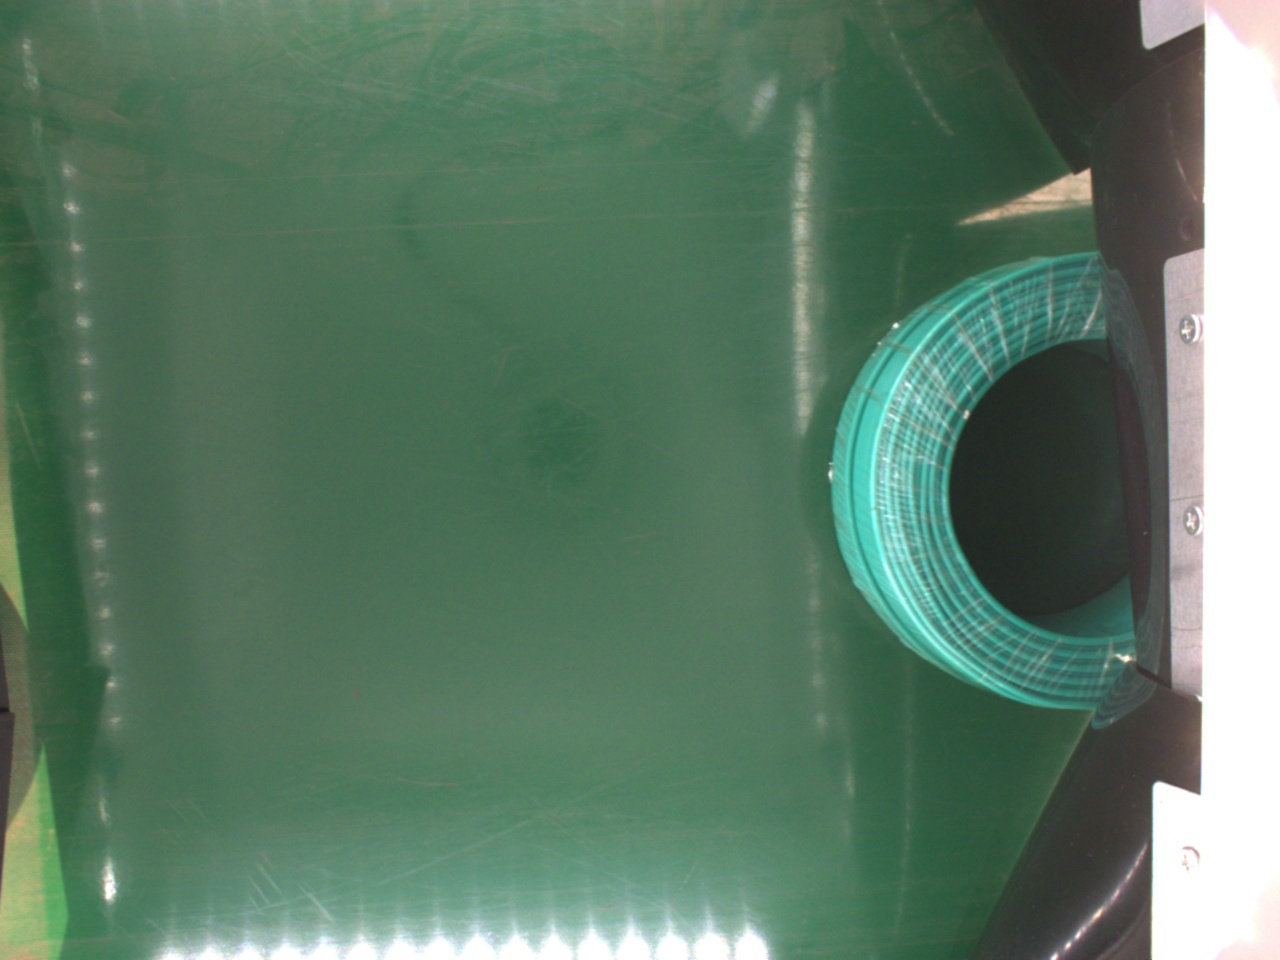green: (828, 250, 1140, 709)
